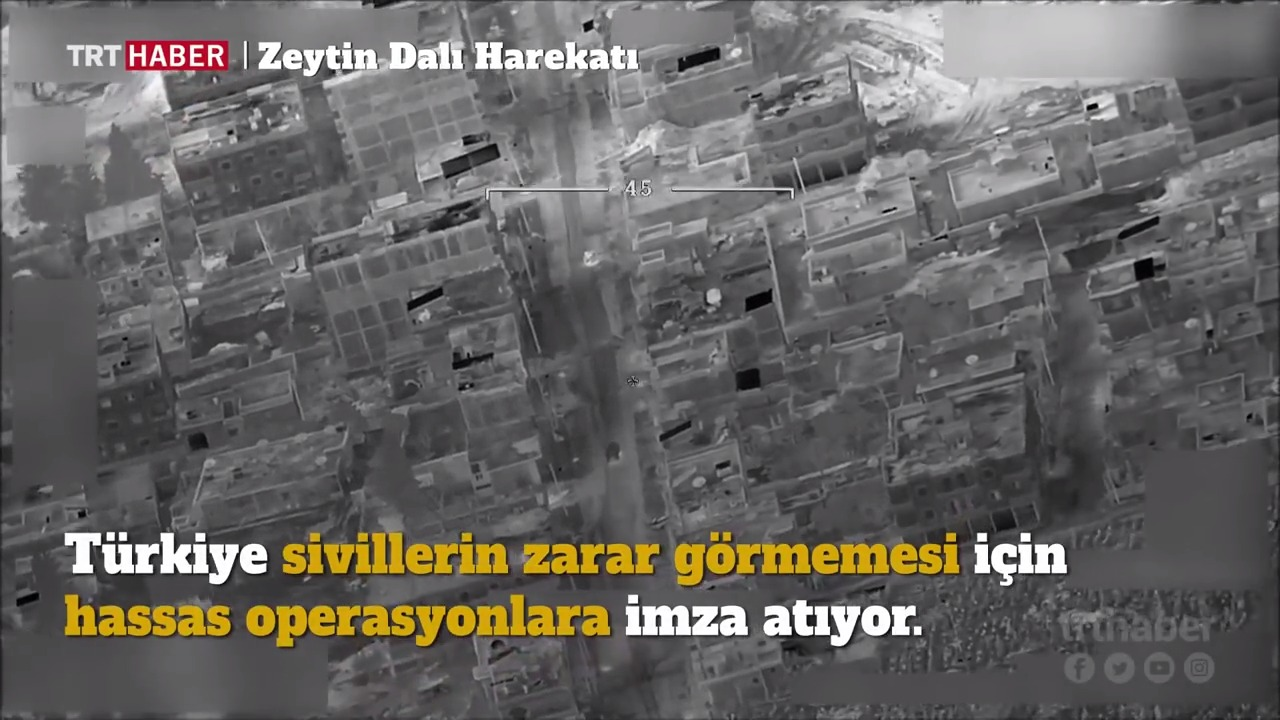bina: (754, 49, 880, 195)
